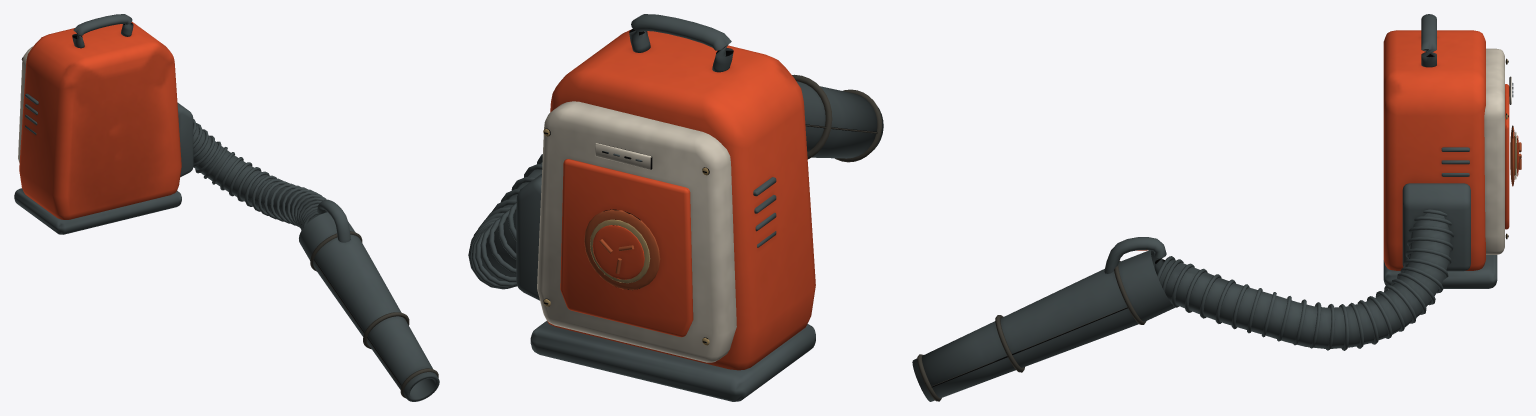
File: shop-blower.glb
3 views of the same model, side by side, from view 1: azimuth 30°, elevation 25°; view 2: azimuth 150°, elevation 25°; view 3: azimuth 270°, elevation 25° (orthographic). The views are drawn at different scales.
Parts seen in each view (by area): view 1: Shop blower; view 2: Shop blower; view 3: Shop blower.
Boxes of the visible parts, bbox=[...] form: Shop blower: bbox=[14, 14, 439, 401]; Shop blower: bbox=[468, 14, 883, 401]; Shop blower: bbox=[912, 14, 1521, 401].
Size of the model in its own units: 0.7993 by 0.9062 by 1.61.
Materials: 6 (6 with a texture image).
